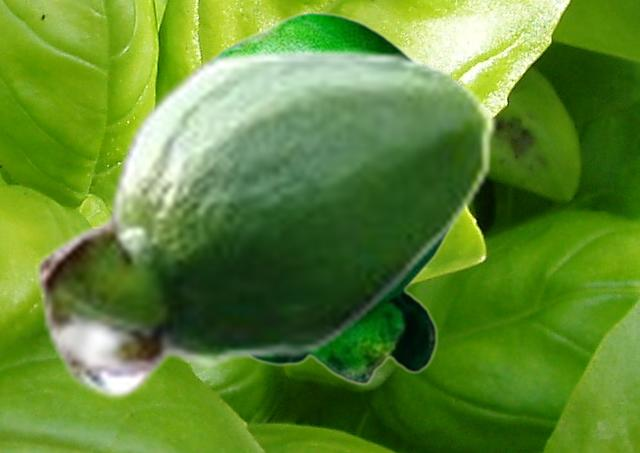guava: (35, 45, 497, 400), (214, 11, 453, 384)
